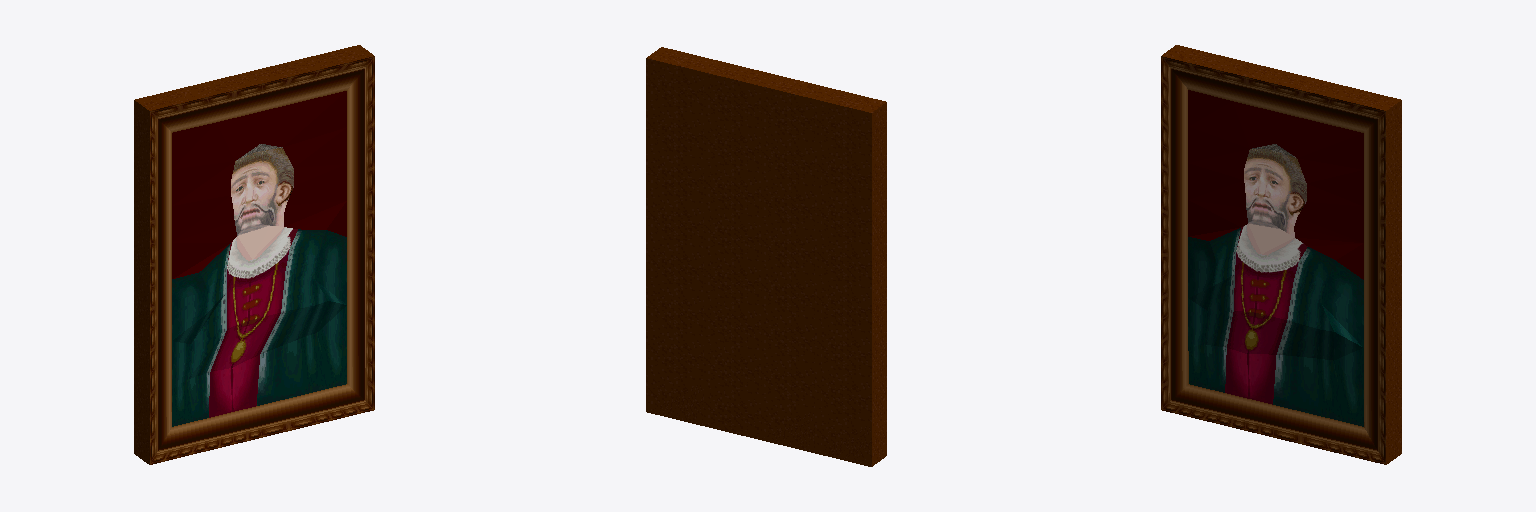
The picture shows the model from 3 angles: view 1: azimuth 30°, elevation 25°; view 2: azimuth 150°, elevation 25°; view 3: azimuth 330°, elevation 25°; orthographic projection.
Visible parts, largest first — view 1: T1L1M001_13; view 2: T1L1M001_13; view 3: T1L1M001_13.
Boxes of the visible parts, x1,y1,x2,y2 form: T1L1M001_13: [134, 45, 374, 464]; T1L1M001_13: [646, 47, 886, 466]; T1L1M001_13: [1161, 45, 1401, 464].
Bounding box in the file's own units: 2 × 3 × 0.2808.
Materials: 1 (1 with a texture image).